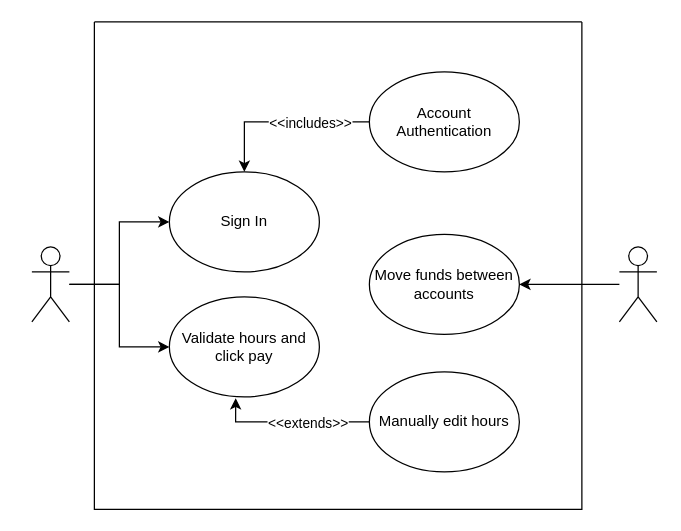
Image size: 681x531. Some labels were removed from this diagram. Each missing label, with the centre of its shape:
"Manager" belongs at [50,284].
"Server" belongs at [637,284].
